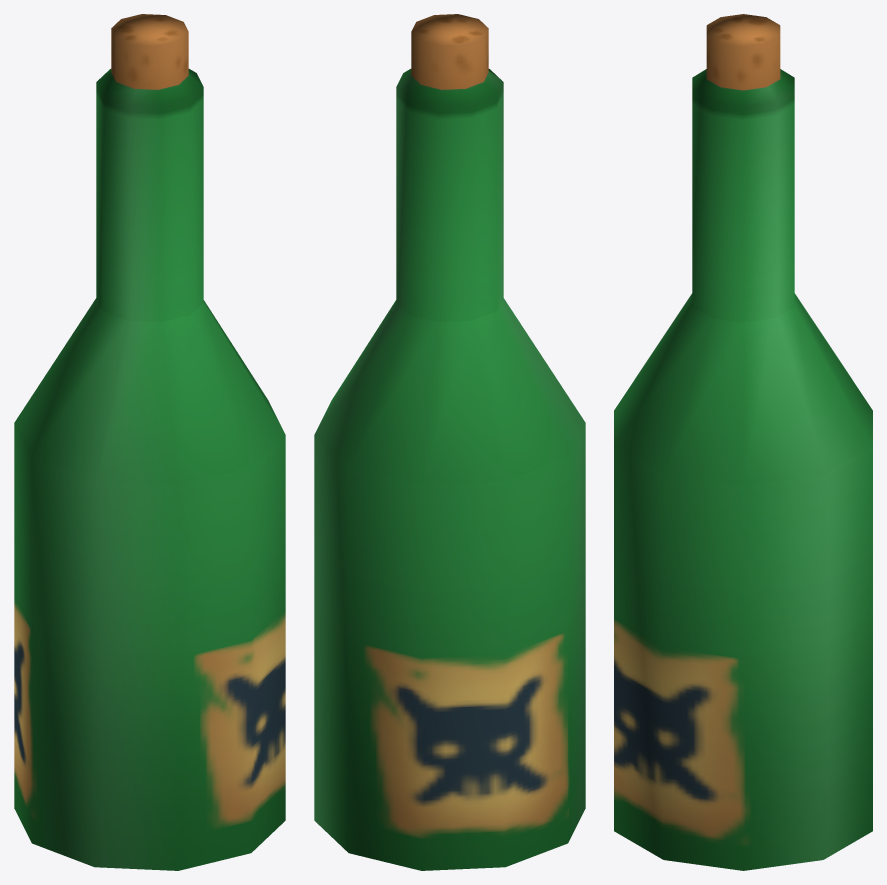
The model's file is bottle.fbx.
3 renders of one model, left to right at view 1: azimuth 30°, elevation 25°; view 2: azimuth 150°, elevation 25°; view 3: azimuth 270°, elevation 25°, orthographic.
Parts seen in each view (by area): view 1: pCylinder5; view 2: pCylinder5; view 3: pCylinder5.
Part boxes in pixels (x1,y1,x2,y2): pCylinder5: [14, 14, 285, 870]; pCylinder5: [314, 14, 585, 870]; pCylinder5: [614, 14, 872, 870].
Bounding box in the file's own units: 0.1763 × 0.5596 × 0.1677.
